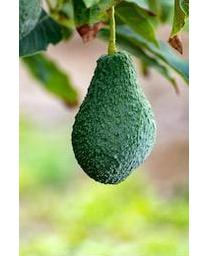avocado: (71, 51, 158, 186)
